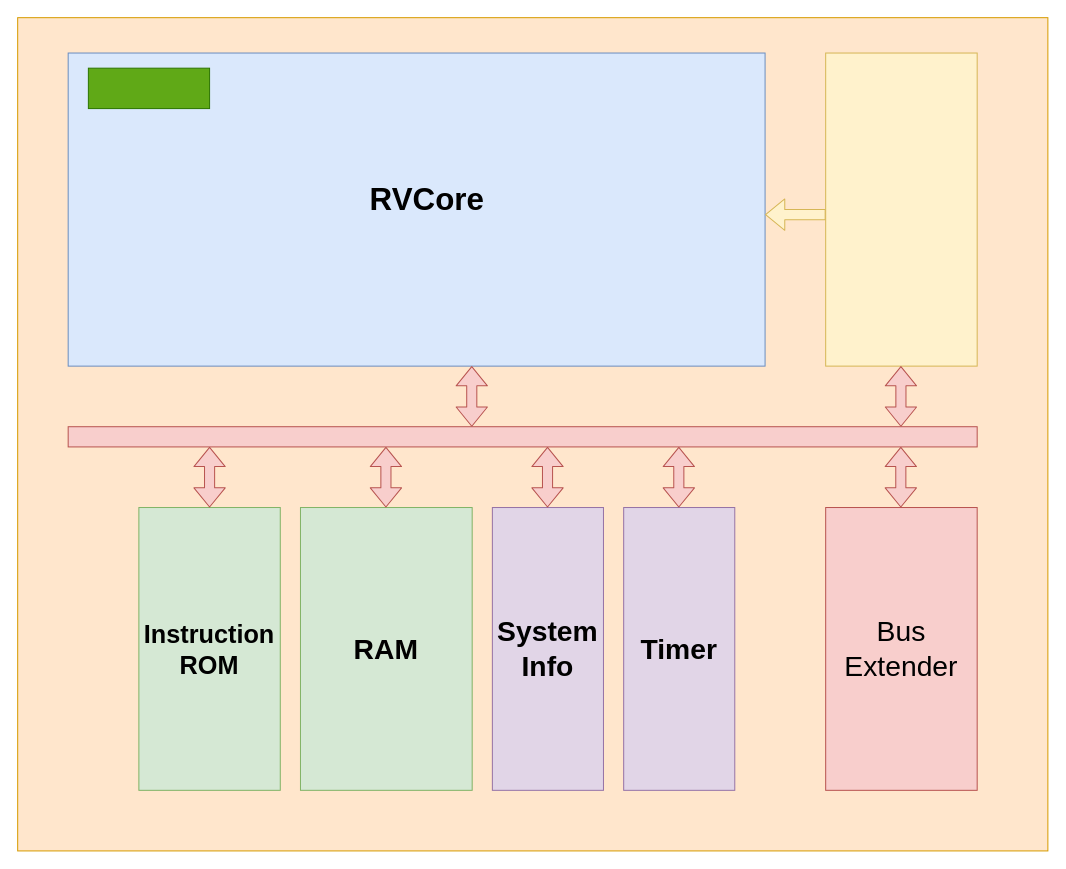
This 1066x869 diagram has some shape labels left out. The shapes that lost their labels are listed below. From the top down, each one's centre as x and y in pixels, then its label:
At (x=148, y=88): "TEST!!!!".
At (x=901, y=209): "Programmable Interrupt Controller".
